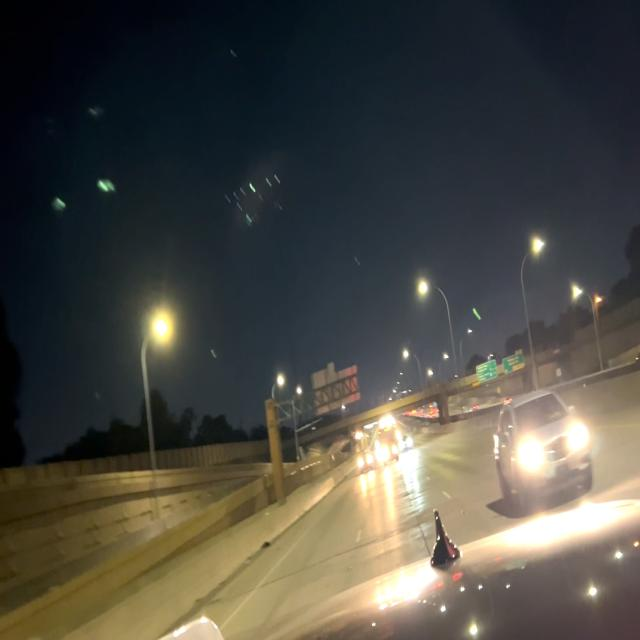back-of-sign: (310, 358, 362, 416)
